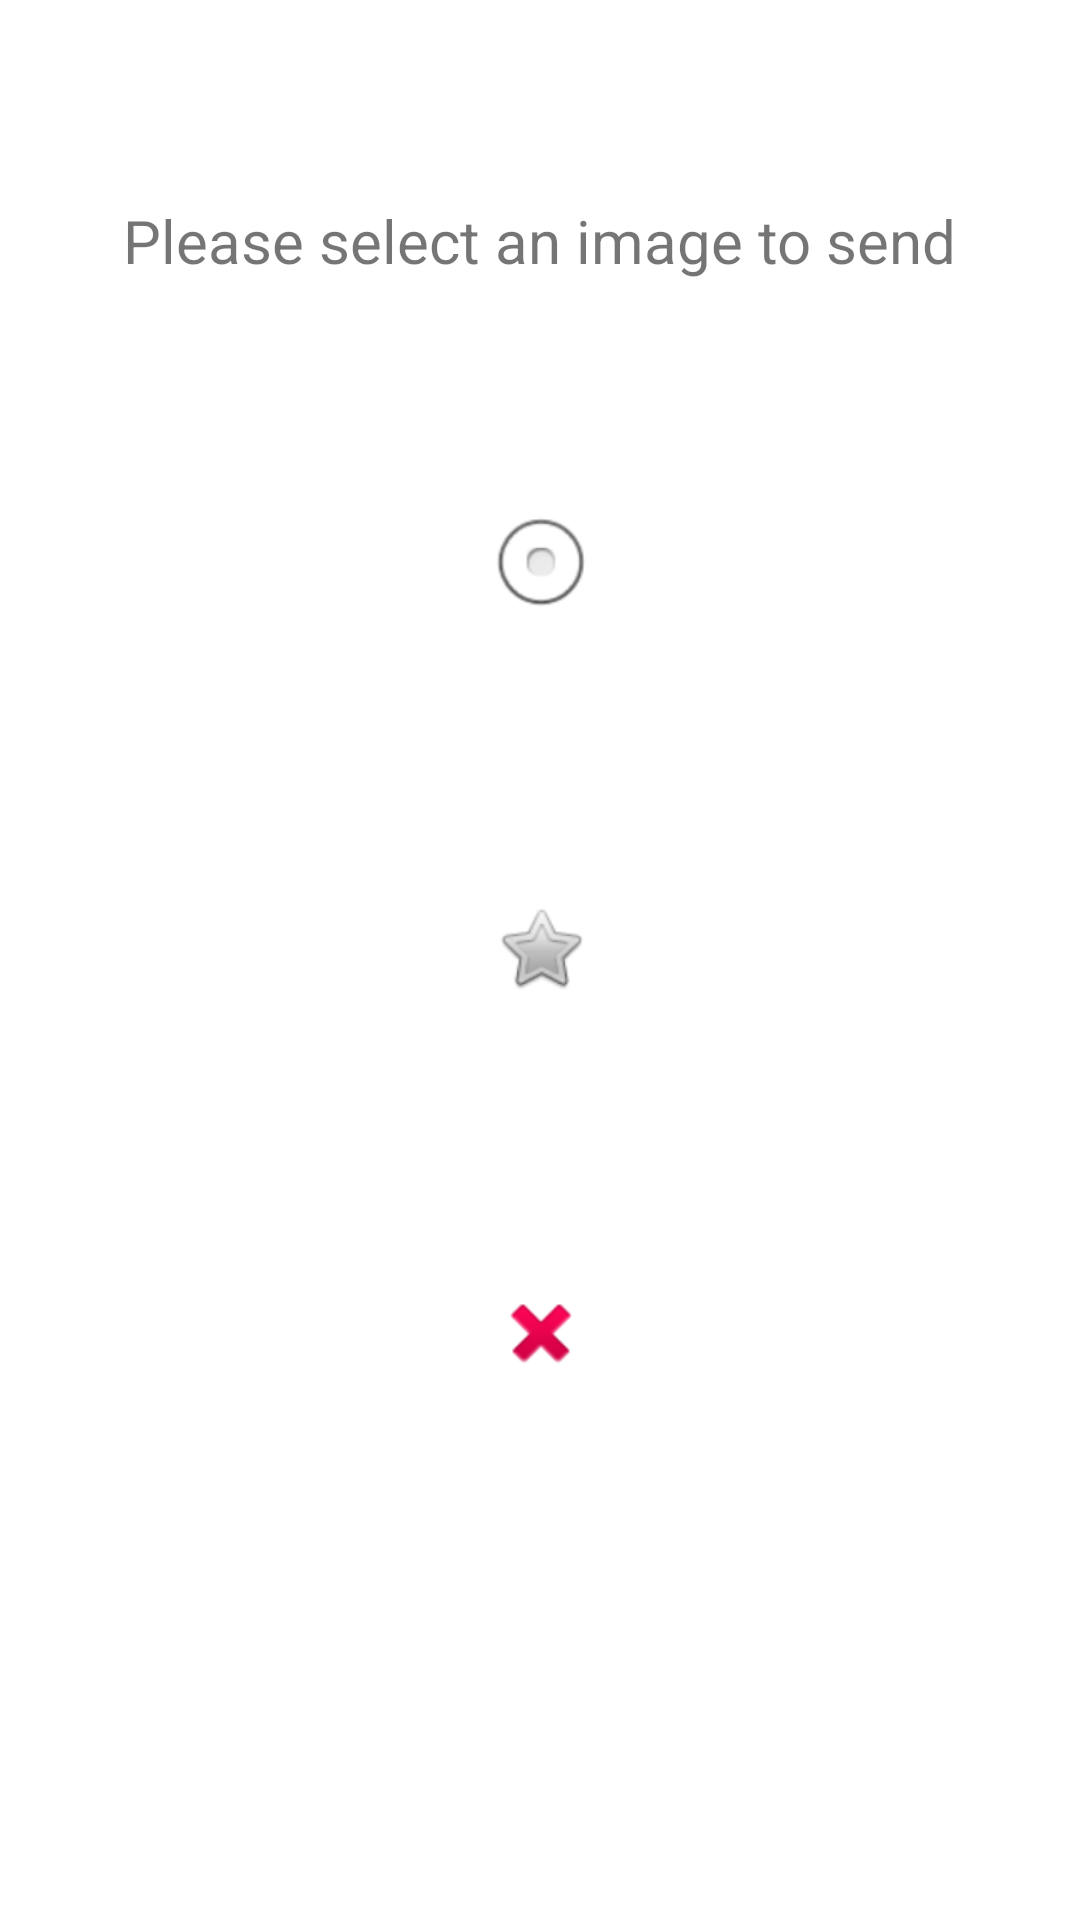

Point at icon controls on the screen. Image size 1080w x 1920h, points as [x,y].
cross: [541,1333]
radio: [541,562]
star: [542,949]
